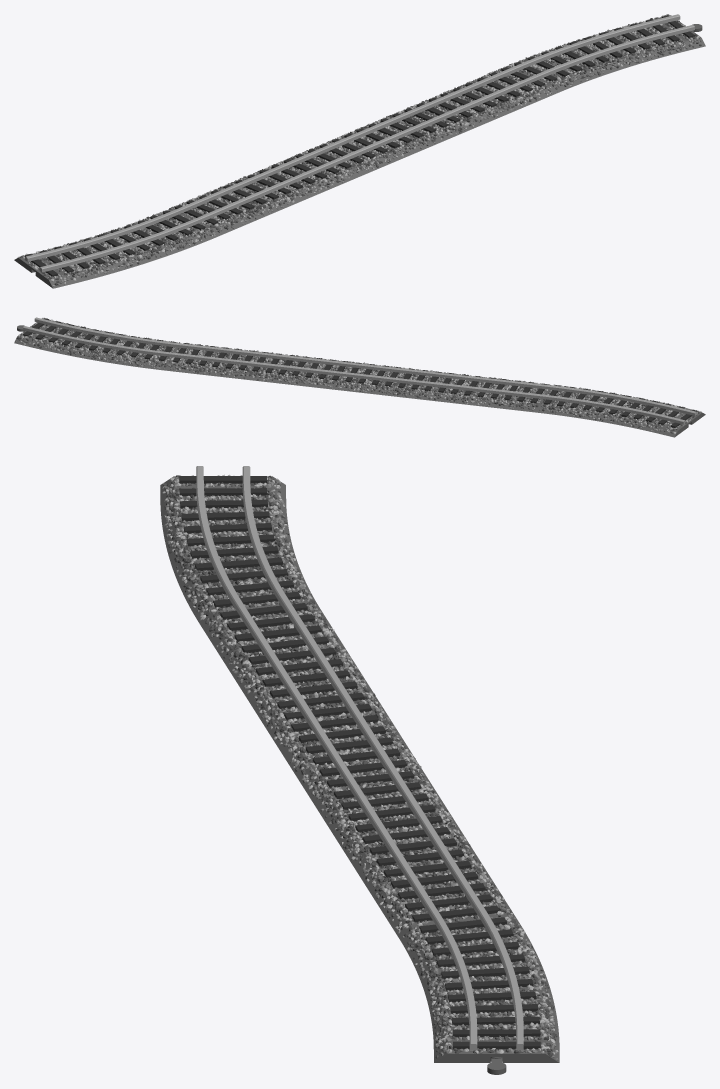
The model's file is Rail_Shift_Left_100.obj.
3 renders of one model, top to bottom at view 1: azimuth 30°, elevation 25°; view 2: azimuth 150°, elevation 25°; view 3: azimuth 270°, elevation 25°, orthographic. The views are drawn at different scales.
Parts seen in each view (by area): view 1: Rail_Shift_Left_100; view 2: Rail_Shift_Left_100; view 3: Rail_Shift_Left_100.
Part boxes in pixels (x1,y1,x2,y2): Rail_Shift_Left_100: [14, 14, 705, 288]; Rail_Shift_Left_100: [14, 317, 705, 437]; Rail_Shift_Left_100: [160, 466, 559, 1074].
Size of the model in its own units: 5.1 by 0.0816 by 1.46.
Materials: 1 (1 with a texture image).
